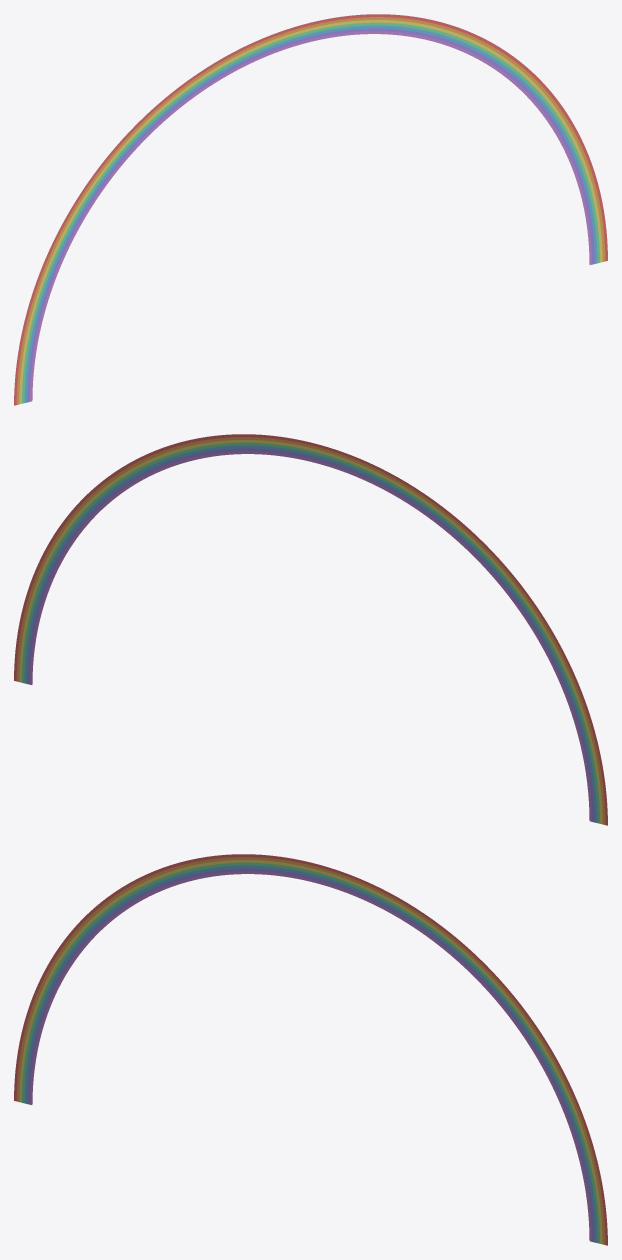
The model's file is rainbow42b.glb.
3 renders of one model, top to bottom at view 1: azimuth 30°, elevation 25°; view 2: azimuth 150°, elevation 25°; view 3: azimuth 330°, elevation 25°, orthographic.
Parts seen in each view (by area): view 1: spectrum_band_0, spectrum_band_1, spectrum_band_2, spectrum_band_3, spectrum_band_4, spectrum_band_5, spectrum_band_6; view 2: spectrum_band_0, spectrum_band_1, spectrum_band_2, spectrum_band_3, spectrum_band_4, spectrum_band_5, spectrum_band_6; view 3: spectrum_band_0, spectrum_band_1, spectrum_band_2, spectrum_band_3, spectrum_band_4, spectrum_band_5, spectrum_band_6.
Boxes of the visible parts, x1=… form: spectrum_band_0: x1=14, y1=14, x2=607, y2=405; spectrum_band_1: x1=16, y1=17, x2=605, y2=404; spectrum_band_2: x1=19, y1=20, x2=602, y2=404; spectrum_band_3: x1=22, y1=22, x2=599, y2=403; spectrum_band_4: x1=24, y1=25, x2=597, y2=402; spectrum_band_5: x1=27, y1=28, x2=594, y2=402; spectrum_band_6: x1=30, y1=31, x2=591, y2=401; spectrum_band_0: x1=14, y1=434, x2=607, y2=825; spectrum_band_1: x1=16, y1=437, x2=605, y2=824; spectrum_band_2: x1=19, y1=440, x2=602, y2=824; spectrum_band_3: x1=22, y1=442, x2=599, y2=823; spectrum_band_4: x1=24, y1=445, x2=597, y2=822; spectrum_band_5: x1=27, y1=448, x2=594, y2=822; spectrum_band_6: x1=30, y1=451, x2=591, y2=821; spectrum_band_0: x1=14, y1=854, x2=607, y2=1245; spectrum_band_1: x1=16, y1=857, x2=605, y2=1244; spectrum_band_2: x1=19, y1=860, x2=602, y2=1244; spectrum_band_3: x1=22, y1=862, x2=599, y2=1243; spectrum_band_4: x1=24, y1=865, x2=597, y2=1242; spectrum_band_5: x1=27, y1=868, x2=594, y2=1242; spectrum_band_6: x1=30, y1=871, x2=591, y2=1241.
Bounding box in the file's own units: 1800 × 900 × 0.
